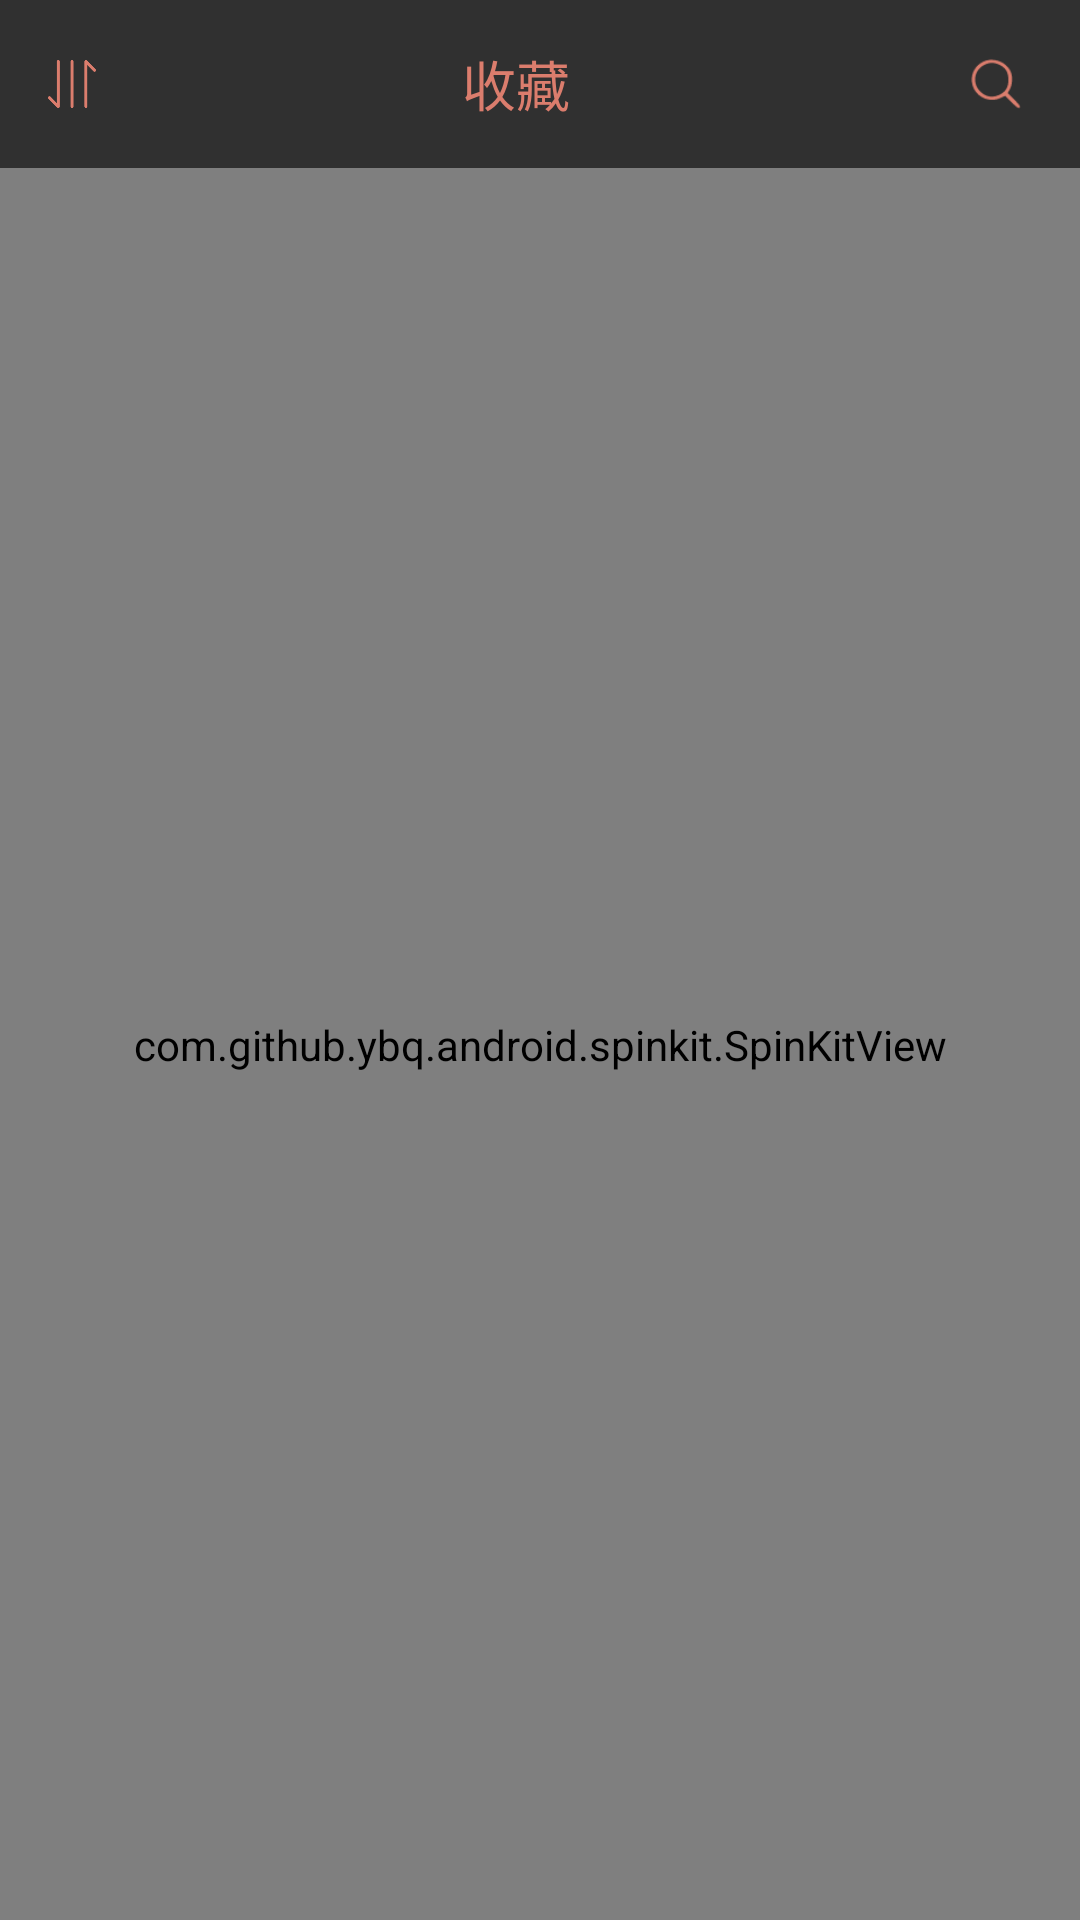

Icon click points for this 1080px x 1920px phone screenshot, format (x=x, y=y):
search: (x=995, y=83)
sort: (x=72, y=84)
